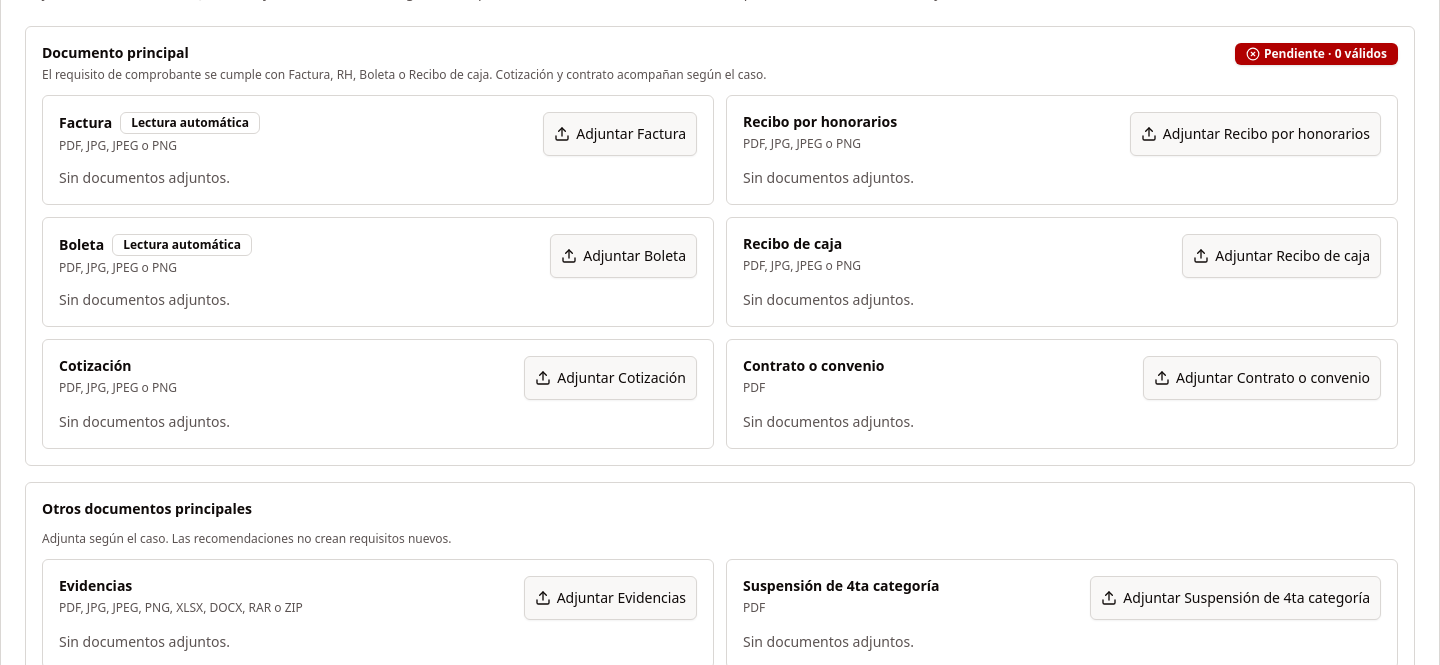
Test: RequestDocumentsCard › amber suggestions appear only after continuing RHE guidance, without changing other cards or validation
This screenshot has width=1440, height=665.
Click the button "Adjuntar Recibo por honorarios" at (1255, 134), box [1130,112,1381,156]
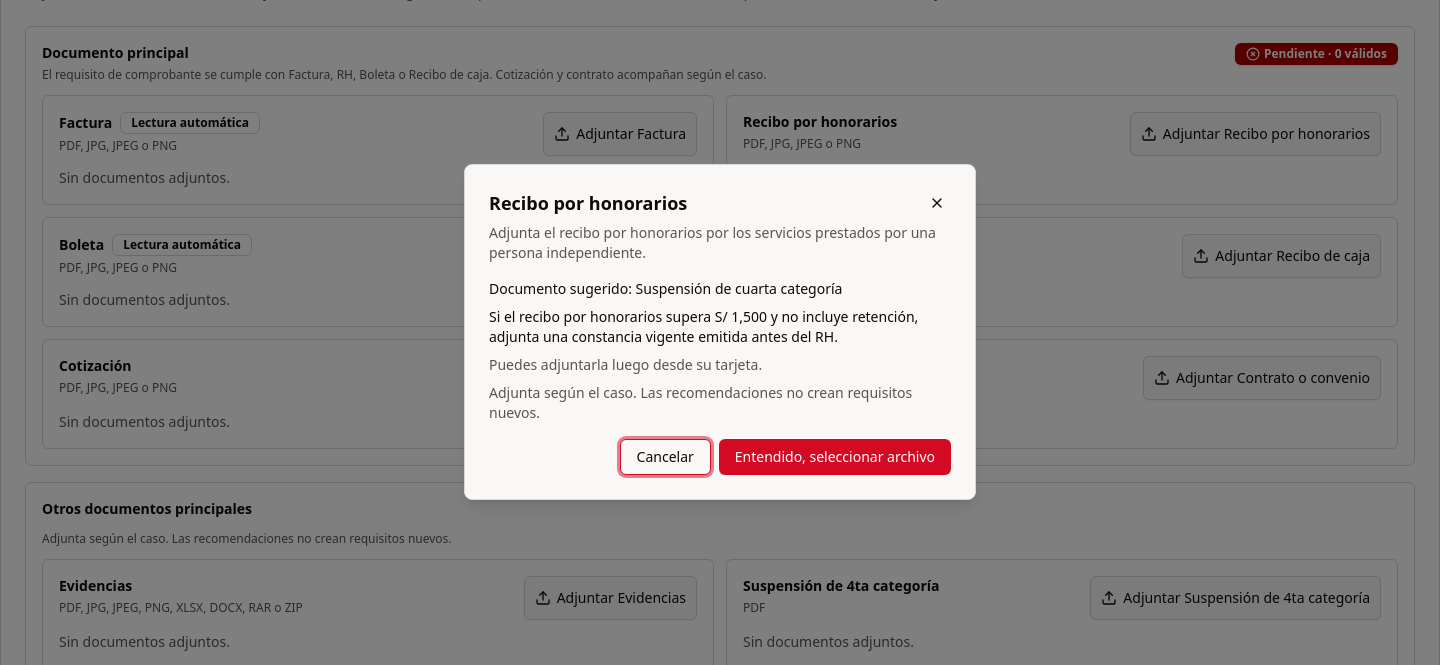
Click the button "Entendido, seleccionar archivo" at (835, 457), box [719,439,951,475]
(page scrolled)
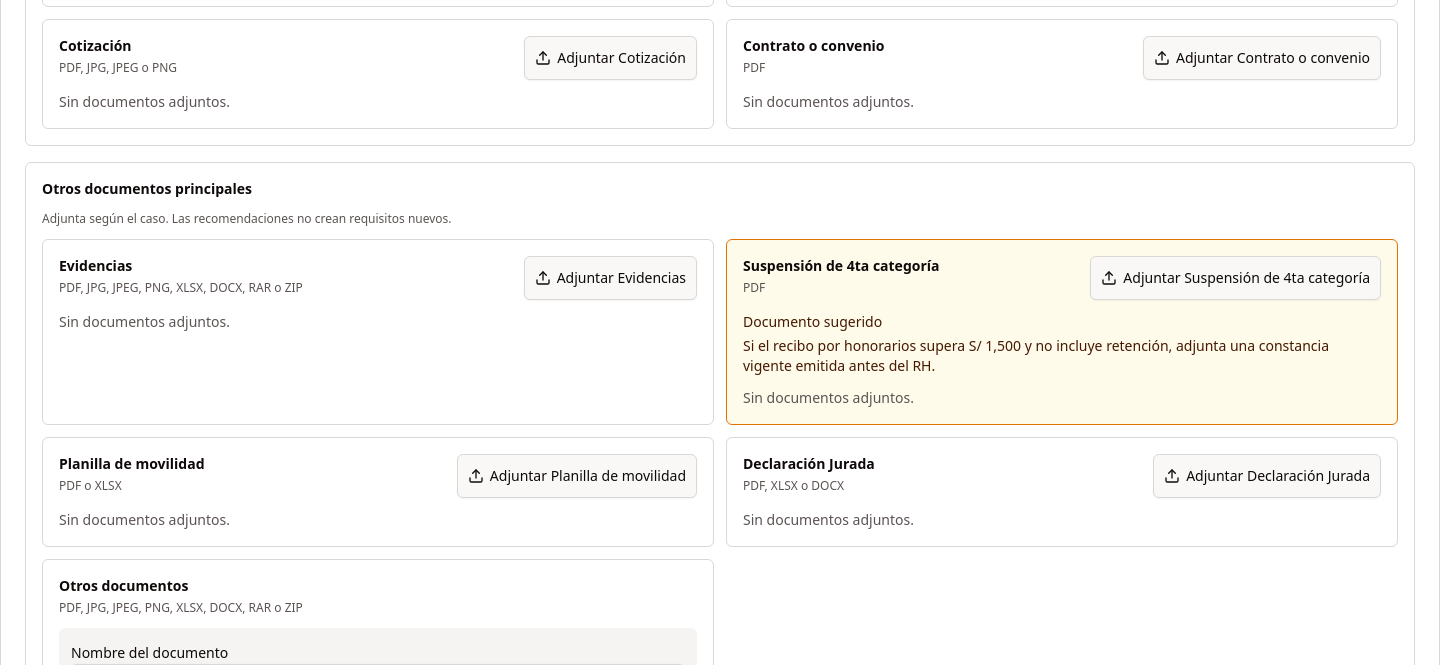
Check: the text "Documento sugerido" is shown, box [743,312,882,331]
Check: the element with test id "supplier-category-FOURTH_CATEGORY_SUSPENSION" shows "Si el recibo por honorarios supera S/ 1,500 y no incluye retención", box [743,336,1329,375]
